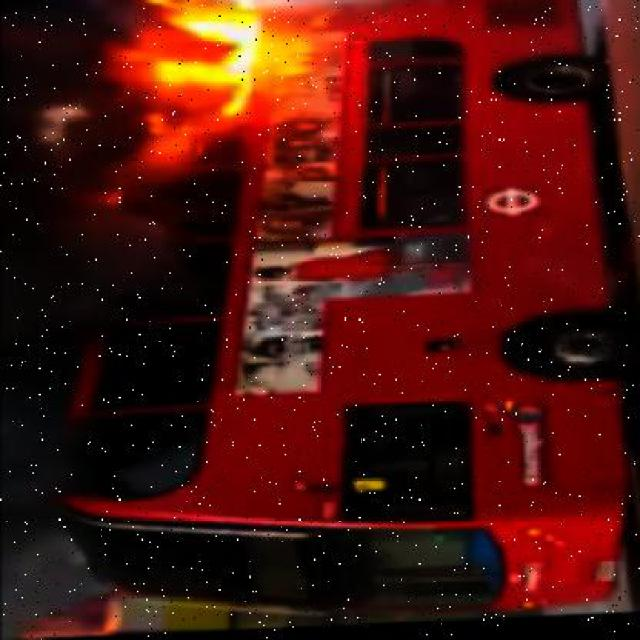fire: (96, 94, 227, 637), (17, 1, 251, 166), (111, 18, 188, 67)
